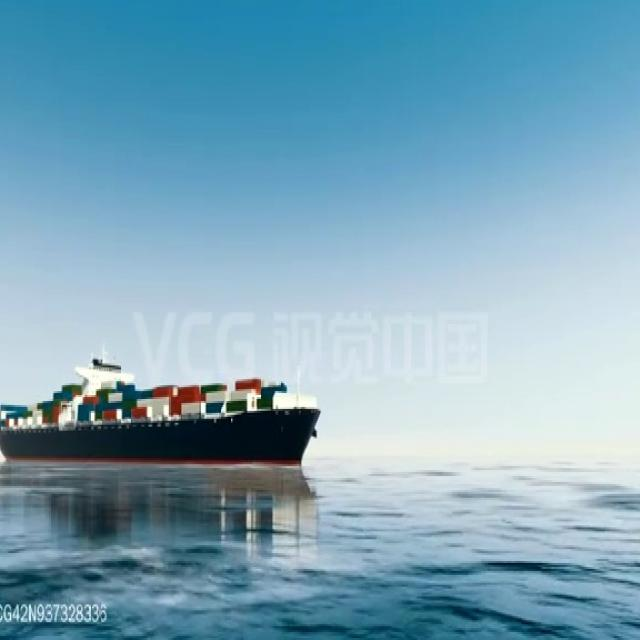cargoship: (0, 352, 319, 468)
